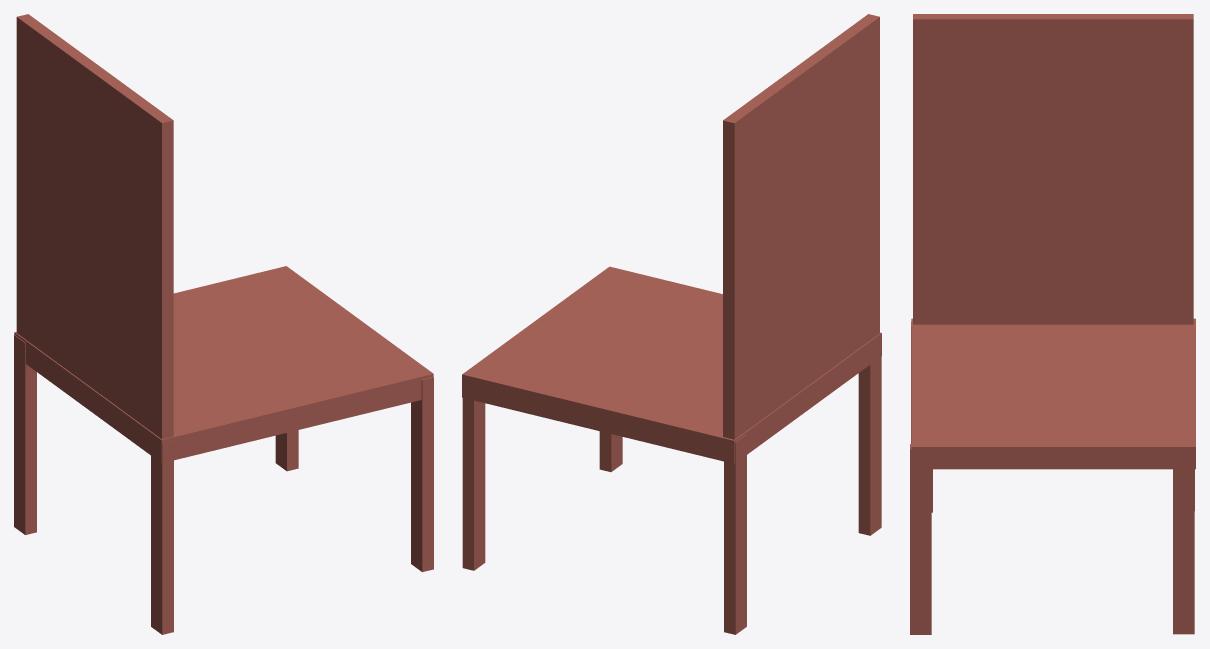
File: chair.glb
3 renders of one model, left to right at view 1: azimuth 30°, elevation 25°; view 2: azimuth 150°, elevation 25°; view 3: azimuth 270°, elevation 25°, orthographic. The views are drawn at different scales.
Visible parts, largest first — view 1: Cube.005; view 2: Cube.005; view 3: Cube.005.
Part boxes in pixels (x1,y1,x2,y2): Cube.005: (14, 14, 433, 634); Cube.005: (462, 14, 881, 634); Cube.005: (910, 14, 1195, 634).
Size of the model in its own units: 5.73 by 10.26 by 5.39.
